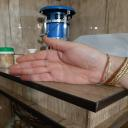OpenPalm: (8, 34, 108, 90)
